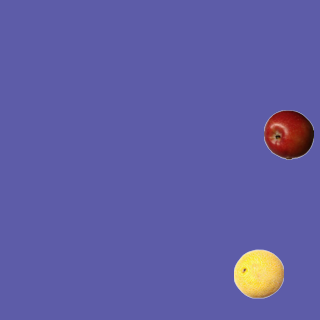Apple Braeburn: (263, 109, 313, 159)
Cantaloupe 1: (233, 248, 283, 298)
